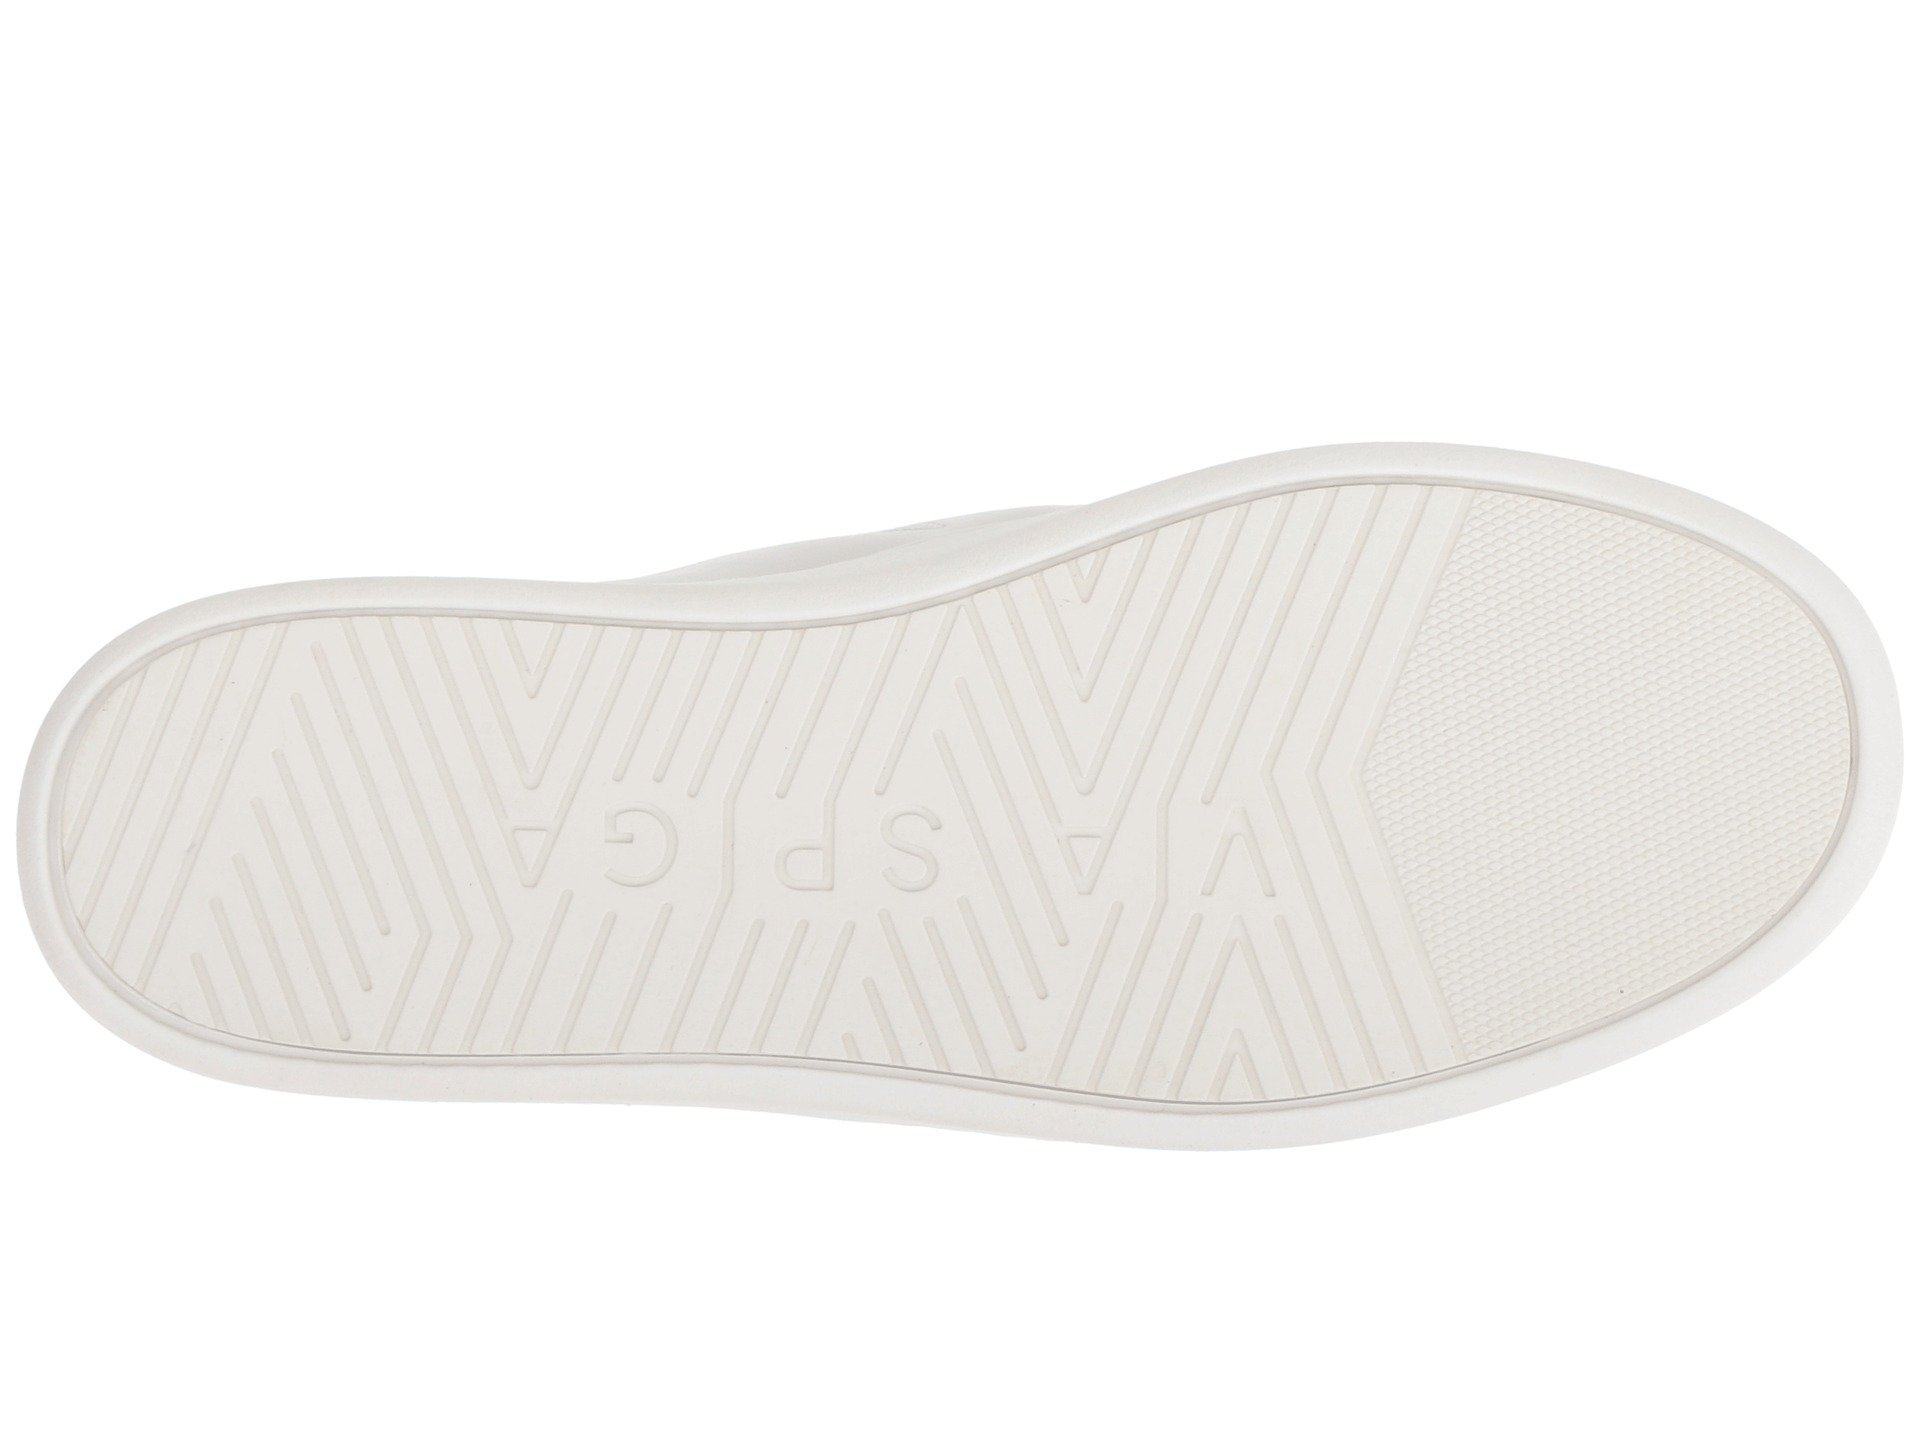chevron: (478, 784, 1296, 914), (1185, 939, 1336, 1110)
line: (1453, 551, 1850, 961), (478, 784, 1296, 914), (116, 669, 384, 991), (602, 611, 940, 768)
quad: (1453, 551, 1850, 961)
text: (478, 784, 1296, 914)
triangle: (1185, 939, 1336, 1110)
